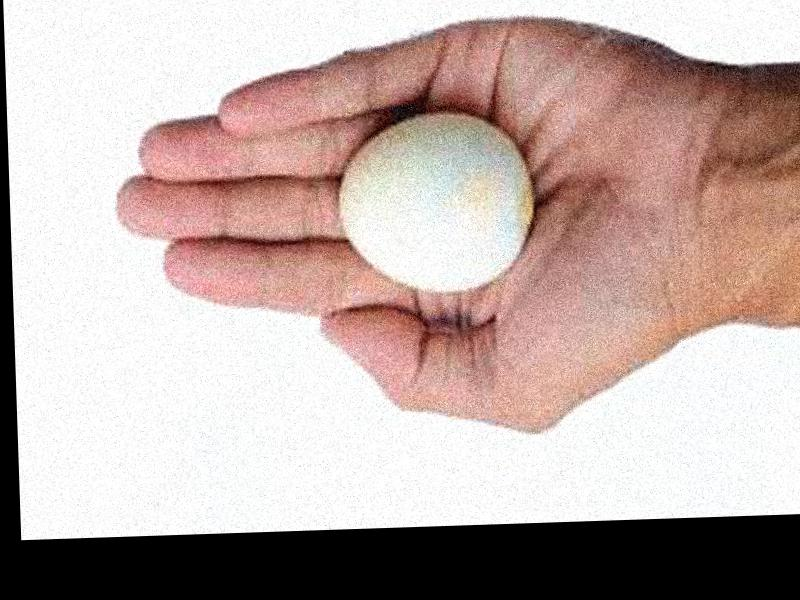Eggs: (333, 113, 535, 291)
